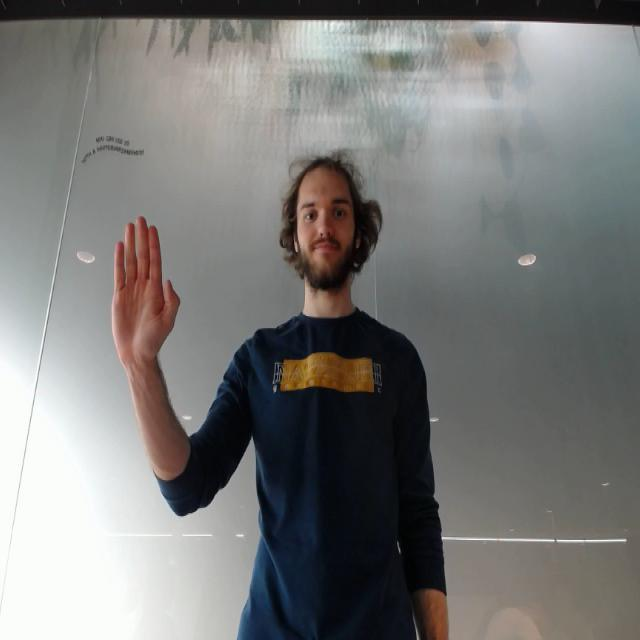backward: (92, 198, 189, 368)
